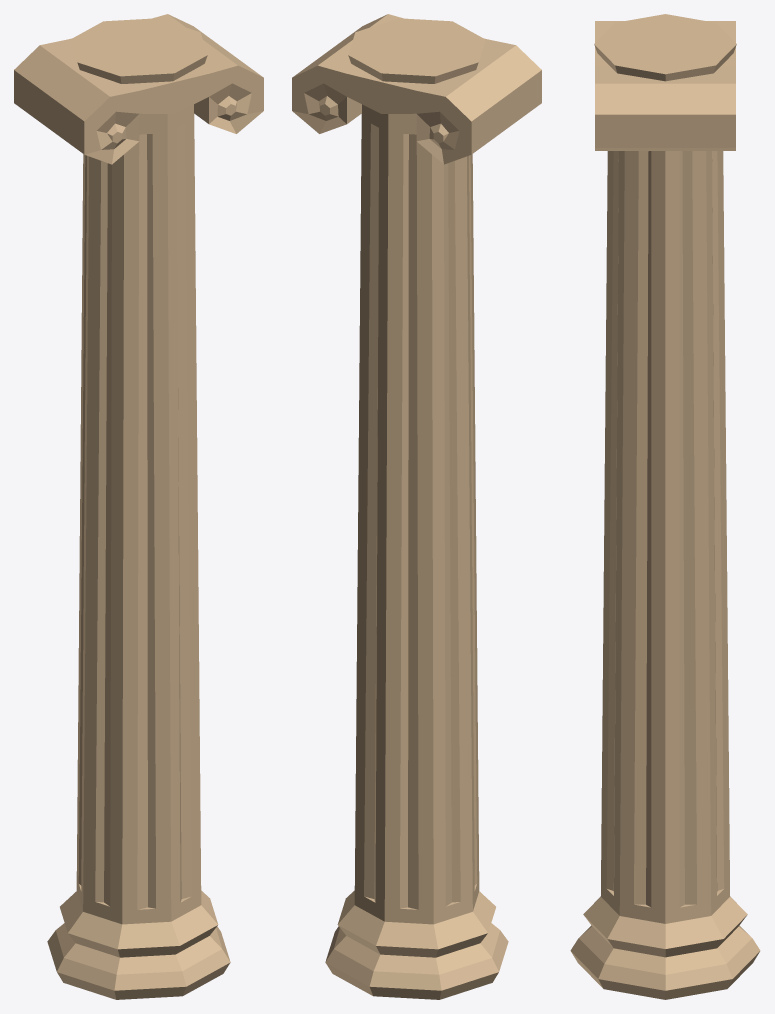
File: roman_pillar-ionic.fbx
The picture shows the model from 3 angles, left to right: view 1: azimuth 30°, elevation 25°; view 2: azimuth 150°, elevation 25°; view 3: azimuth 270°, elevation 25°; orthographic projection.
Visible parts, largest first — view 1: roman_pillar_ionic; view 2: roman_pillar_ionic; view 3: roman_pillar_ionic.
Part boxes in pixels (left/top/right/bottom): roman_pillar_ionic: left=14, top=14, right=263, bottom=999; roman_pillar_ionic: left=292, top=14, right=541, bottom=999; roman_pillar_ionic: left=570, top=14, right=760, bottom=999.
Bounding box in the file's own units: 40.97 × 200 × 37.51.
